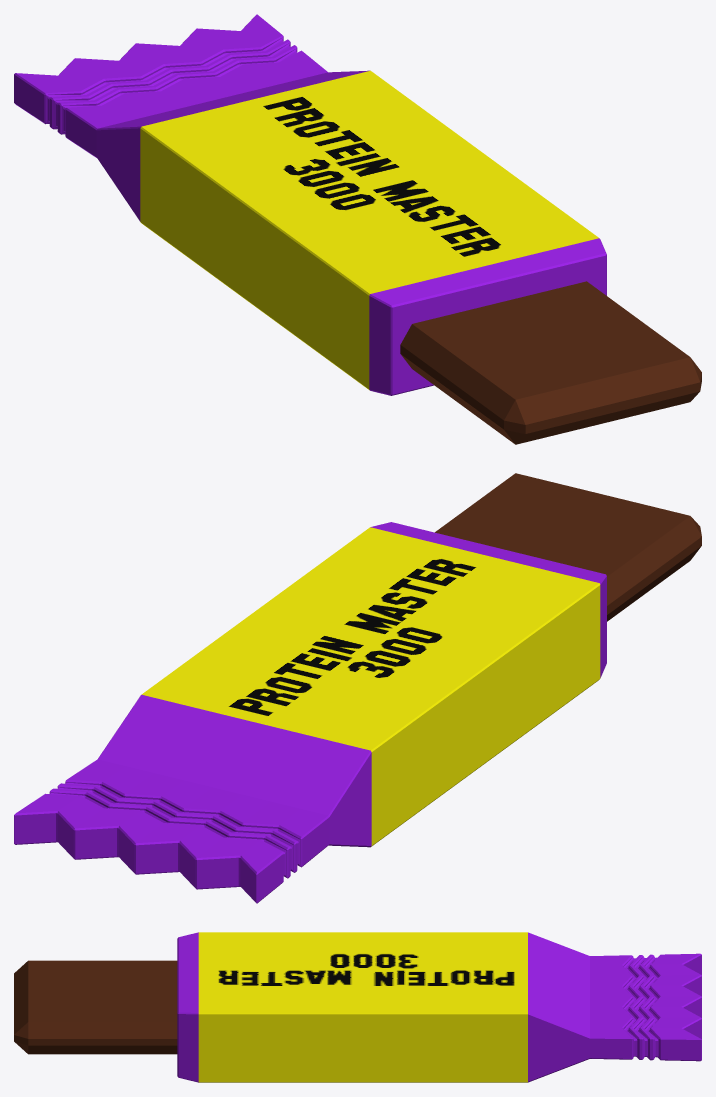
The model's file is ProteinBar 1.fbx.
The picture shows the model from 3 angles, top to bottom: view 1: azimuth 30°, elevation 25°; view 2: azimuth 150°, elevation 25°; view 3: azimuth 270°, elevation 25°; orthographic projection. The views are drawn at different scales.
Parts seen in each view (by area): view 1: Papir, Hel Bar, Spist Bar; view 2: Papir, Hel Bar, Spist Bar; view 3: Papir, Hel Bar, Spist Bar.
Boxes of the visible parts, x1,y1,x2,y2 form: Papir: (14,14,606,395); Hel Bar: (400,281,701,444); Spist Bar: (401,281,641,440); Papir: (14,522,606,903); Hel Bar: (435,473,701,621); Spist Bar: (435,508,701,603); Papir: (177,932,701,1082); Hel Bar: (14,960,177,1054); Spist Bar: (29,960,177,1054).
Size of the model in its own units: 142 by 53.9 by 483.
3 materials, 1 textured.
